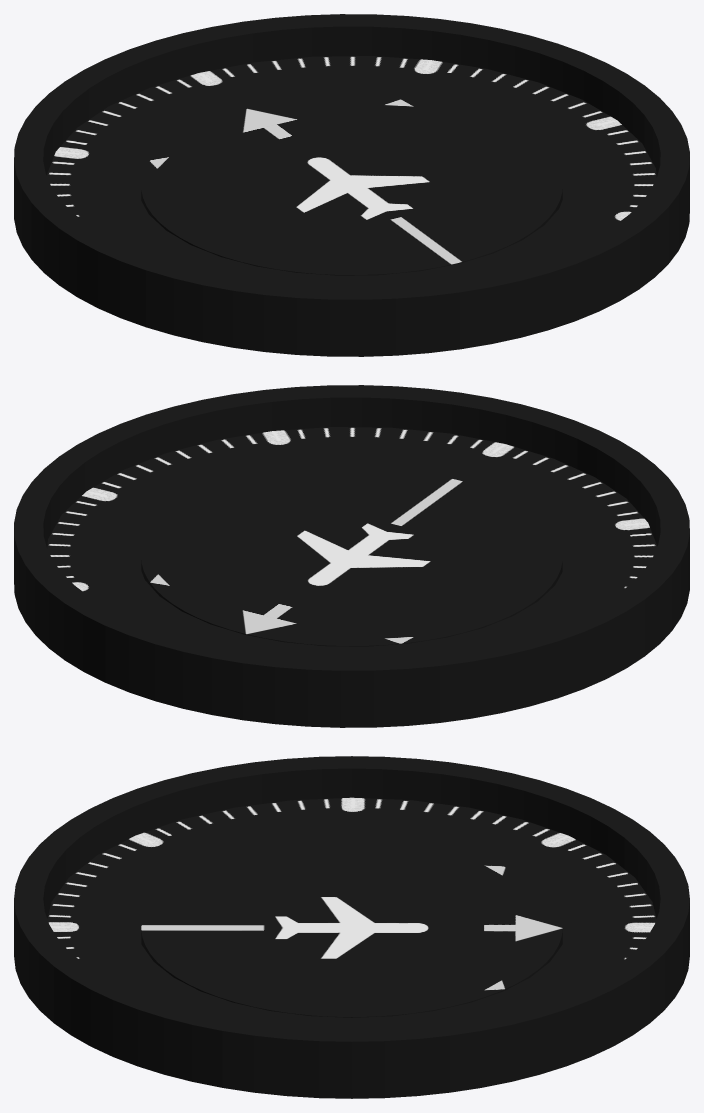
Rendered from InstrumentsHeading.fbx.
3 views of the same model, one above another, from view 1: azimuth 30°, elevation 25°; view 2: azimuth 150°, elevation 25°; view 3: azimuth 270°, elevation 25° (orthographic).
Parts seen in each view (by area): view 1: ChassisHeading, IndicatorHeading; view 2: ChassisHeading, IndicatorHeading; view 3: ChassisHeading, IndicatorHeading.
Part boxes in pixels (x1,y1,x2,y2): ChassisHeading: (14, 14, 689, 356); IndicatorHeading: (46, 56, 656, 287); ChassisHeading: (14, 385, 689, 727); IndicatorHeading: (47, 427, 657, 658); ChassisHeading: (14, 756, 689, 1098); IndicatorHeading: (47, 797, 656, 1029).
Size of the model in its own units: 130 by 12.14 by 130.
